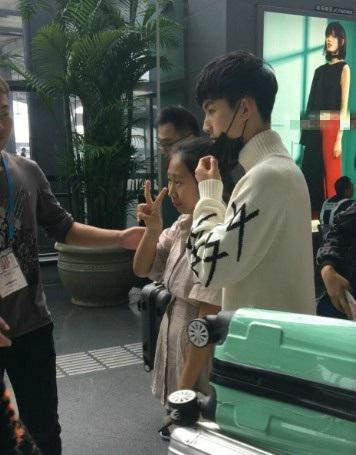NONE: (167, 161, 200, 216), (161, 128, 186, 165), (325, 30, 342, 55)
WRONG: (205, 97, 242, 163)
